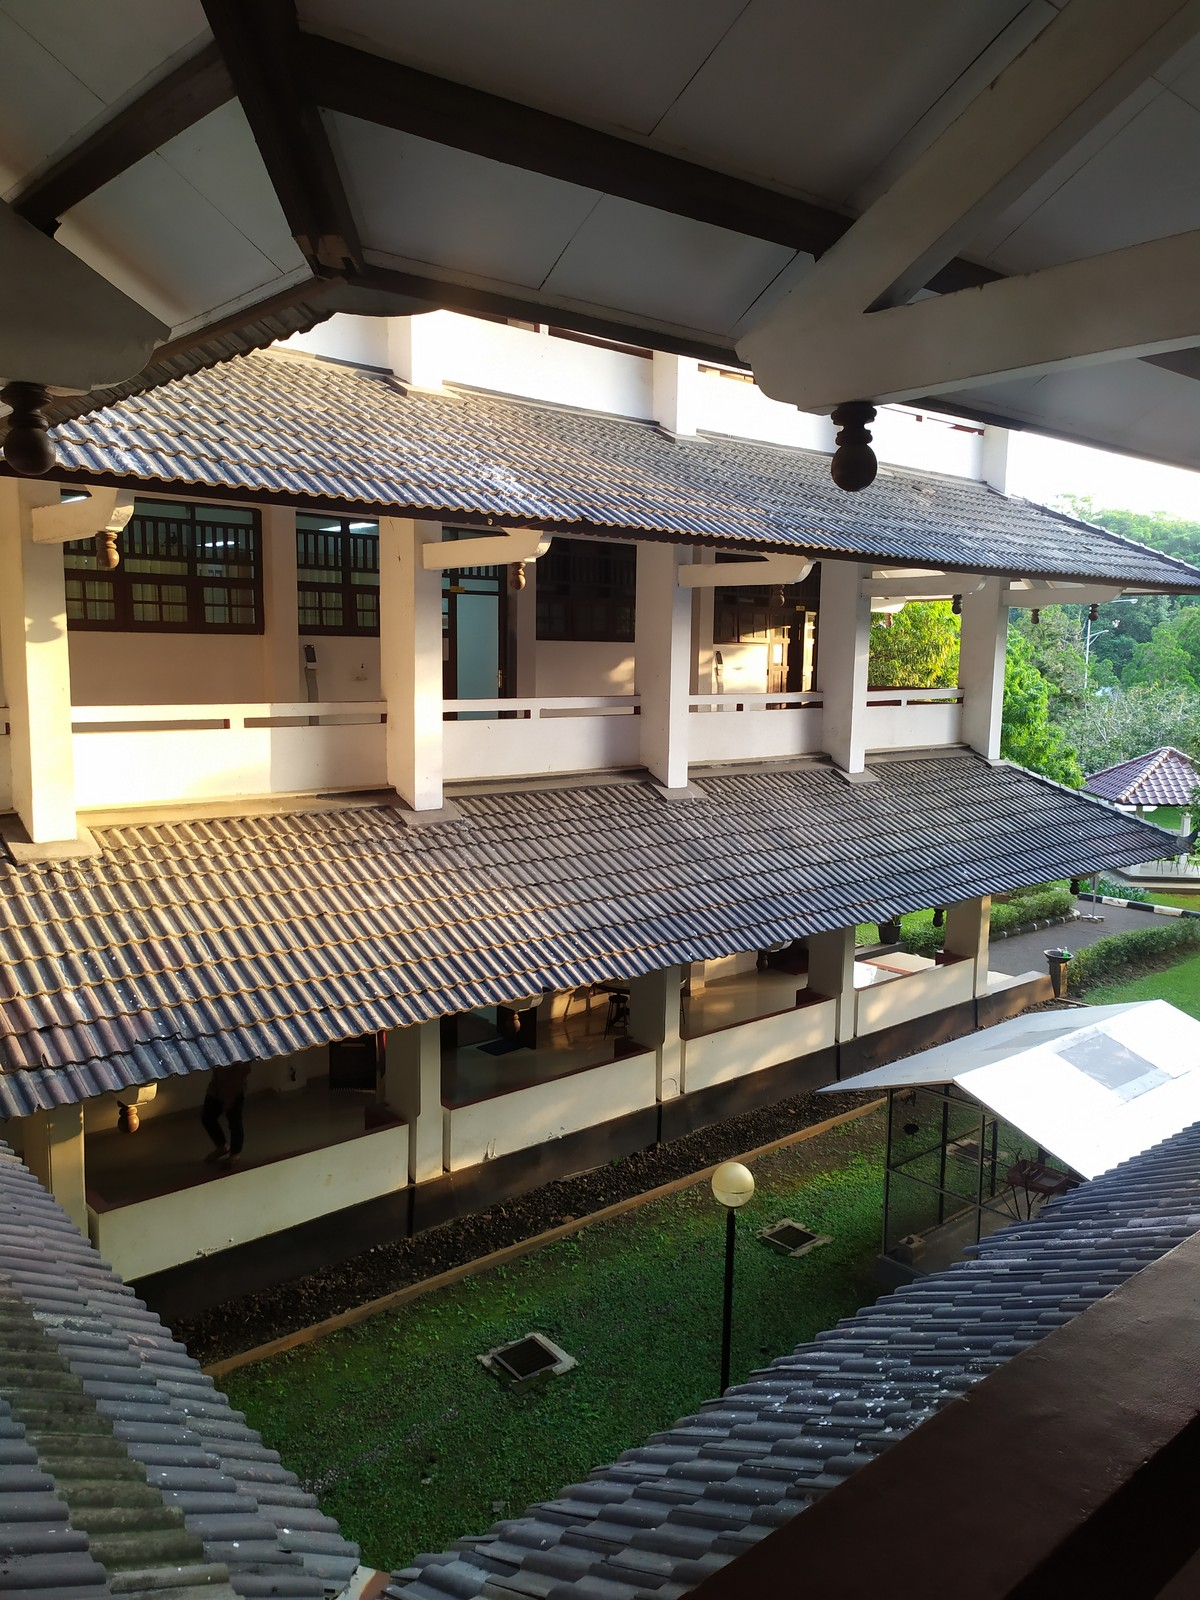concrete beam: (886, 241, 1200, 406)
concrete column: (4, 488, 89, 853), (372, 519, 454, 819), (629, 539, 701, 791), (811, 559, 877, 782), (948, 577, 1013, 765)
